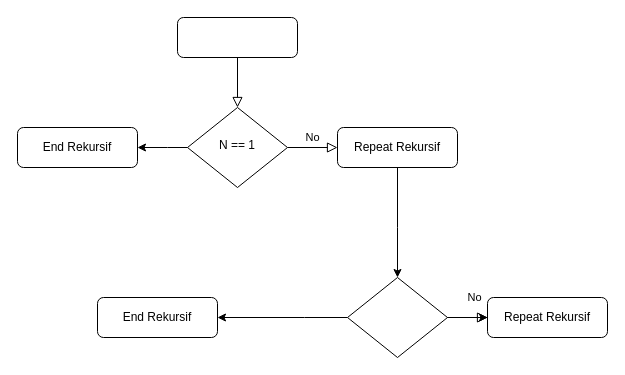
This 625x375 diagram has some shape labels left out. Each missing label, with the centre of its shape:
"Alas/Tinggi == 1" goes at (397,317).
"Input Segitiga" goes at (237,37).
